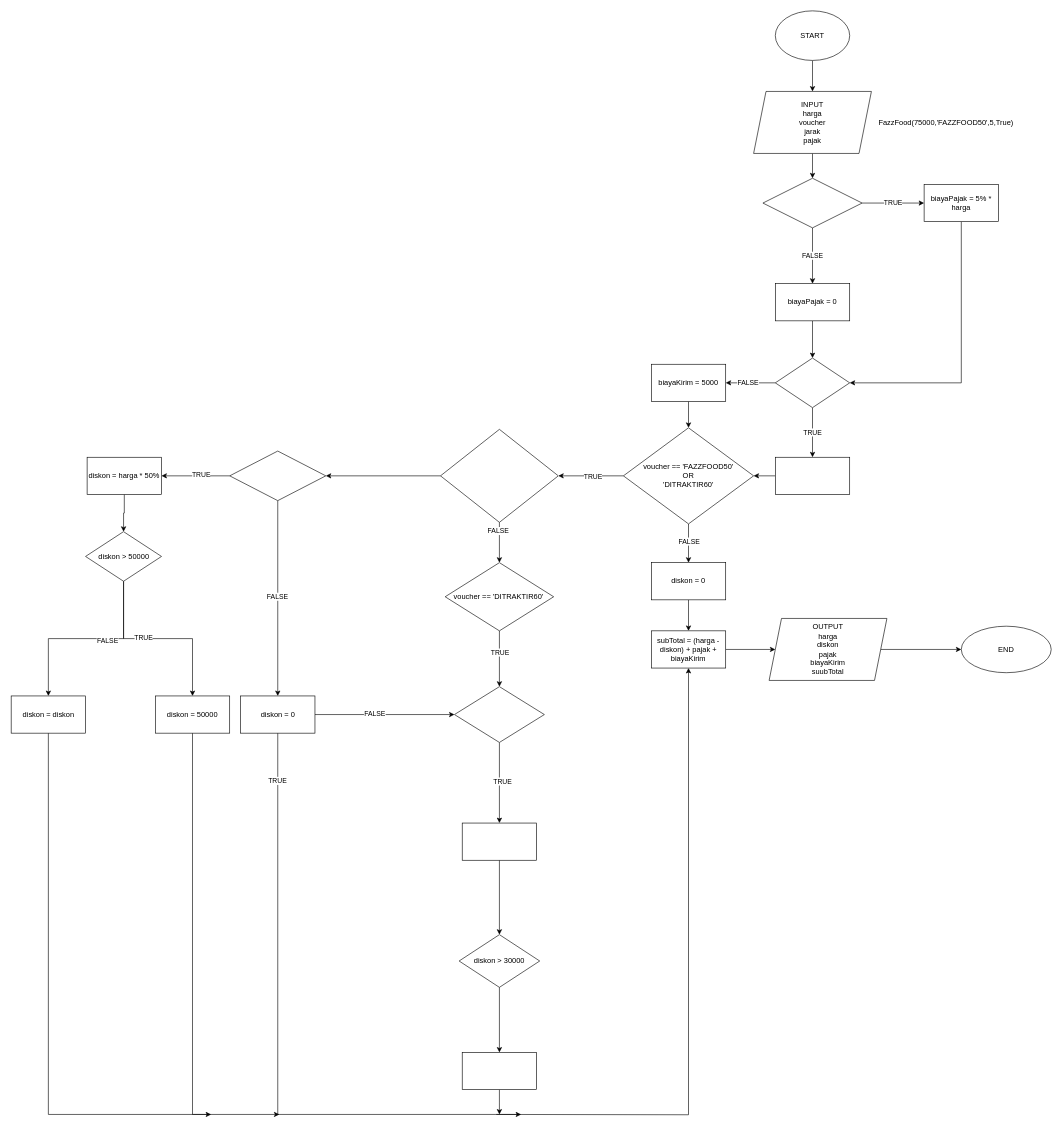
Image size: 1062x1131. Some labels were removed from this diagram. Each missing label, with the centre of its shape:
"biayaKirim = (jarak - 2)*3000 + 5000" goes at point 812,475.
"diskon = 30000" goes at point 499,1071.
"diskon = harga * 60%" goes at point 499,841.
"harga >= 25000" goes at point 499,714.
"harga >= 50000" goes at point 277,475.
"jarak > 2" goes at point 812,382.
"pajak" goes at point 812,203.
"voucher == 'FAZZFOOD50'" goes at point 499,475.
